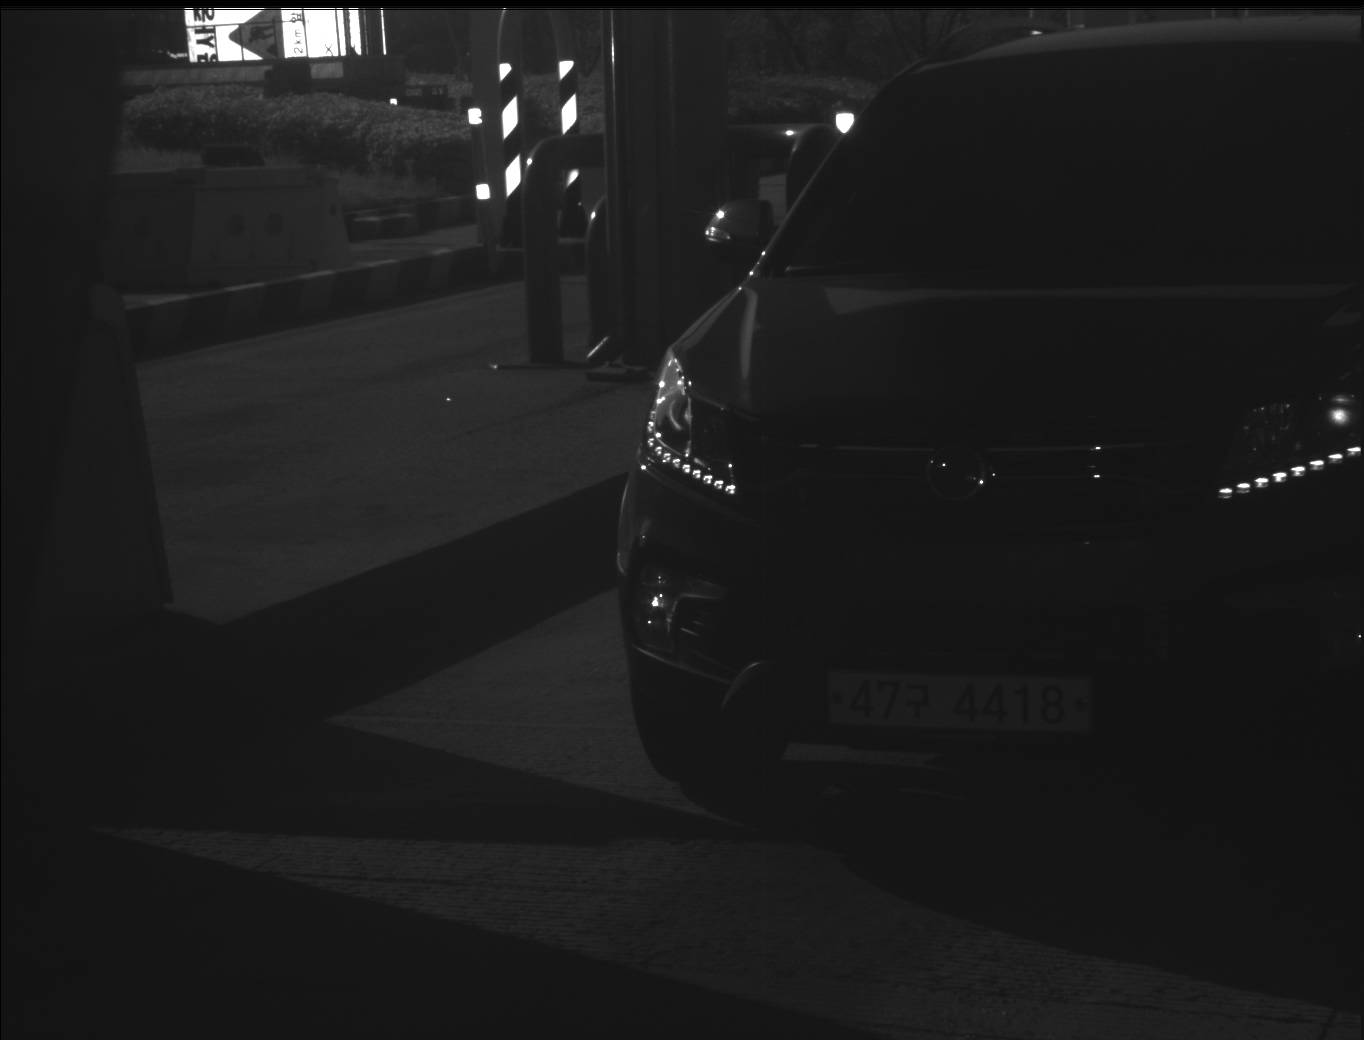car: (605, 16, 1360, 826)
plate: (779, 666, 1102, 740)
